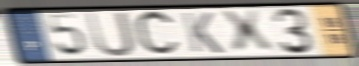3: (271, 7, 315, 56)
5: (45, 12, 90, 58)
C: (132, 8, 183, 60)
K: (179, 11, 226, 55)
U: (83, 10, 138, 58)
X: (217, 8, 278, 56)
